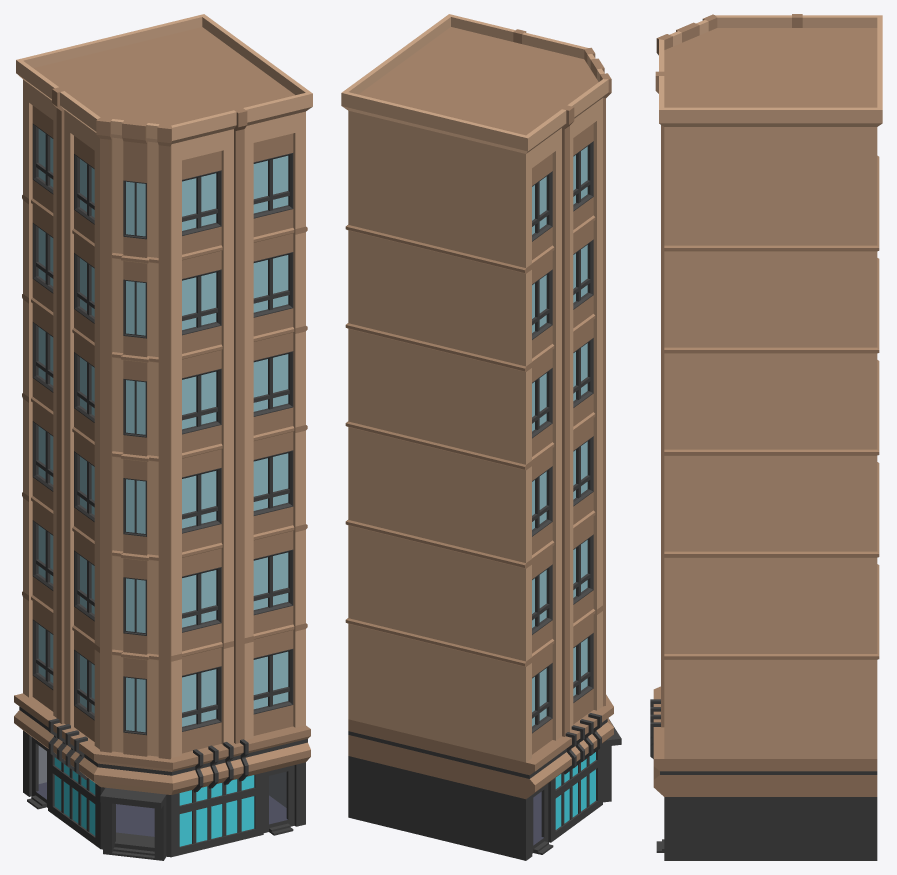
File: SM_Buildings_House_08_V2.fbx
The picture shows the model from 3 angles, left to right: view 1: azimuth 30°, elevation 25°; view 2: azimuth 150°, elevation 25°; view 3: azimuth 270°, elevation 25°; orthographic projection. The views are drawn at different scales.
Parts seen in each view (by area): view 1: SM_Buildings_House_08_V2; view 2: SM_Buildings_House_08_V2; view 3: SM_Buildings_House_08_V2.
Part boxes in pixels (x1,y1,x2,y2): SM_Buildings_House_08_V2: (14, 14, 312, 860); SM_Buildings_House_08_V2: (341, 14, 621, 860); SM_Buildings_House_08_V2: (650, 14, 882, 860).
Bounding box in the file's own units: 10.9 × 39 × 10.9.
